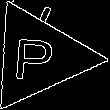P_N: (16, 30, 62, 83)
